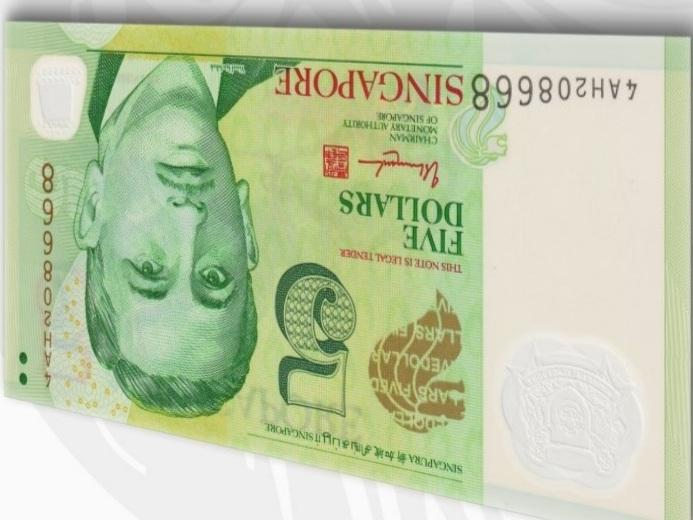5SingaporeDollar: (5, 33, 691, 512)
